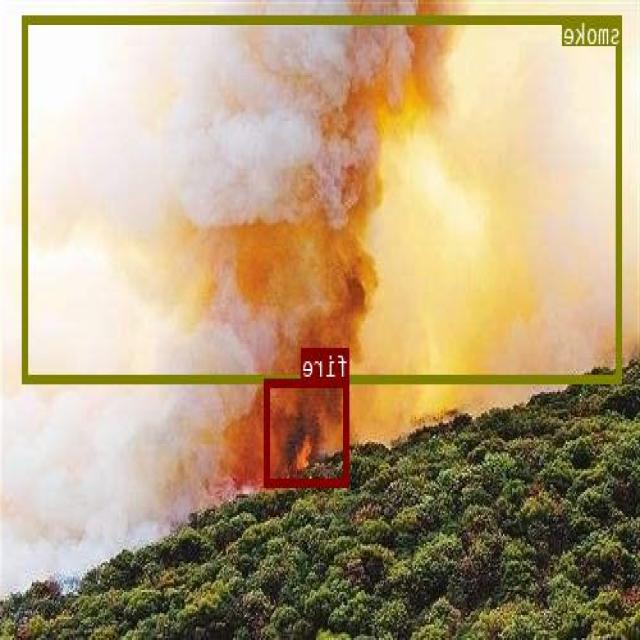fire: (266, 377, 350, 486)
smoke: (24, 15, 623, 382)
